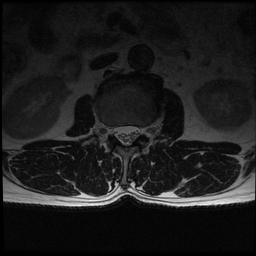CCS_normal: (121, 117, 132, 152)
LFS_normal: (140, 121, 145, 142)
LLS_normal: (133, 120, 140, 144)
RFS_normal: (106, 120, 114, 140)
RLS_normal: (114, 122, 121, 144)
